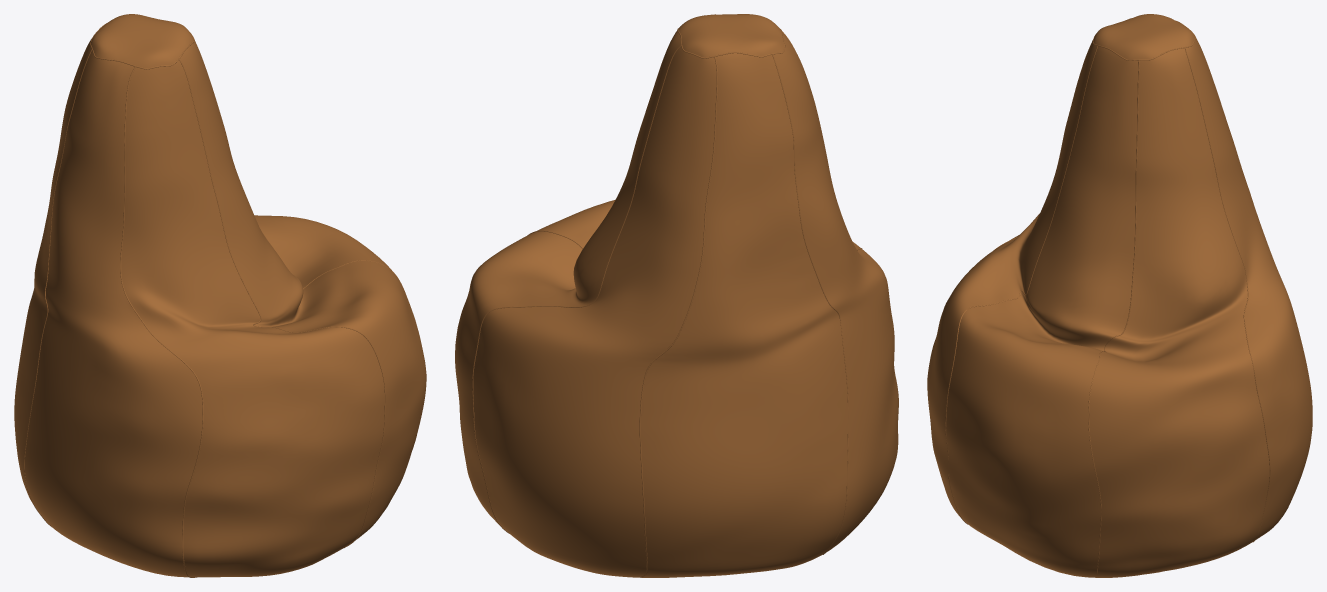
Rendered from Beanbag.fbx.
3 renders of one model, left to right at view 1: azimuth 30°, elevation 25°; view 2: azimuth 150°, elevation 25°; view 3: azimuth 270°, elevation 25°, orthographic. The views are drawn at different scales.
Visible parts, largest first — view 1: Sack, Seam_09, Seam_02, Seam_01; view 2: Sack, Seam_09, Seam_04, Seam_05, Seam_03; view 3: Sack, Seam_09, Seam_07, Seam_05.
Part boxes in pixels (<box>): Sack: <box>14,14,426,577</box>; Seam_09: <box>24,49,405,577</box>; Seam_02: <box>120,67,203,577</box>; Seam_01: <box>179,59,385,546</box>; Sack: <box>455,14,898,577</box>; Seam_09: <box>472,31,862,577</box>; Seam_04: <box>639,56,717,577</box>; Seam_05: <box>472,46,680,532</box>; Seam_03: <box>772,54,848,554</box>; Sack: <box>927,14,1312,577</box>; Seam_09: <box>945,46,1270,573</box>; Seam_07: <box>1088,60,1139,573</box>; Seam_05: <box>1184,48,1270,541</box>.
Size of the model in its own units: 67.92 by 88.27 by 67.2.
